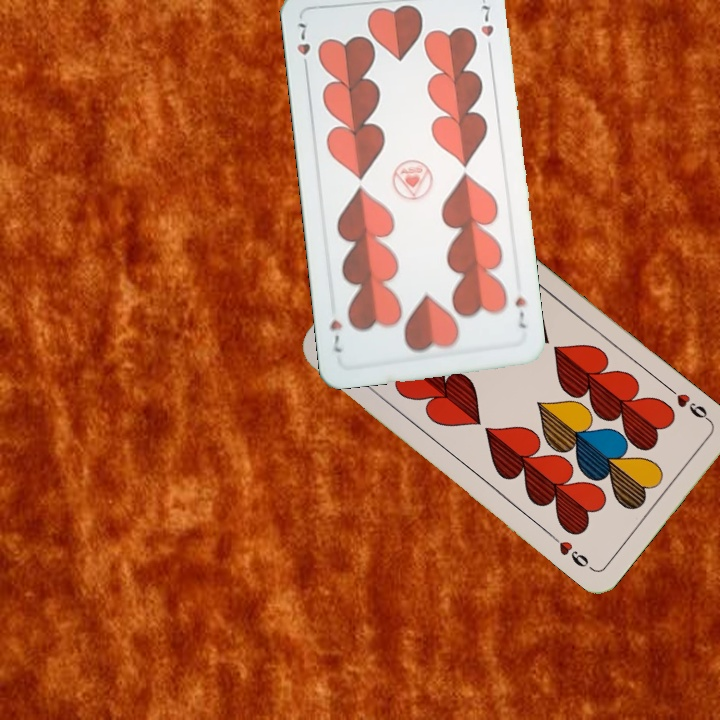H7: (292, 18, 313, 75), (511, 292, 529, 331)
H9: (664, 383, 714, 425)
